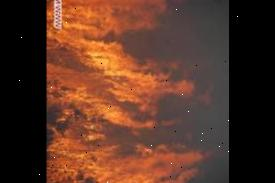fire: (47, 31, 215, 183), (61, 0, 223, 30)
